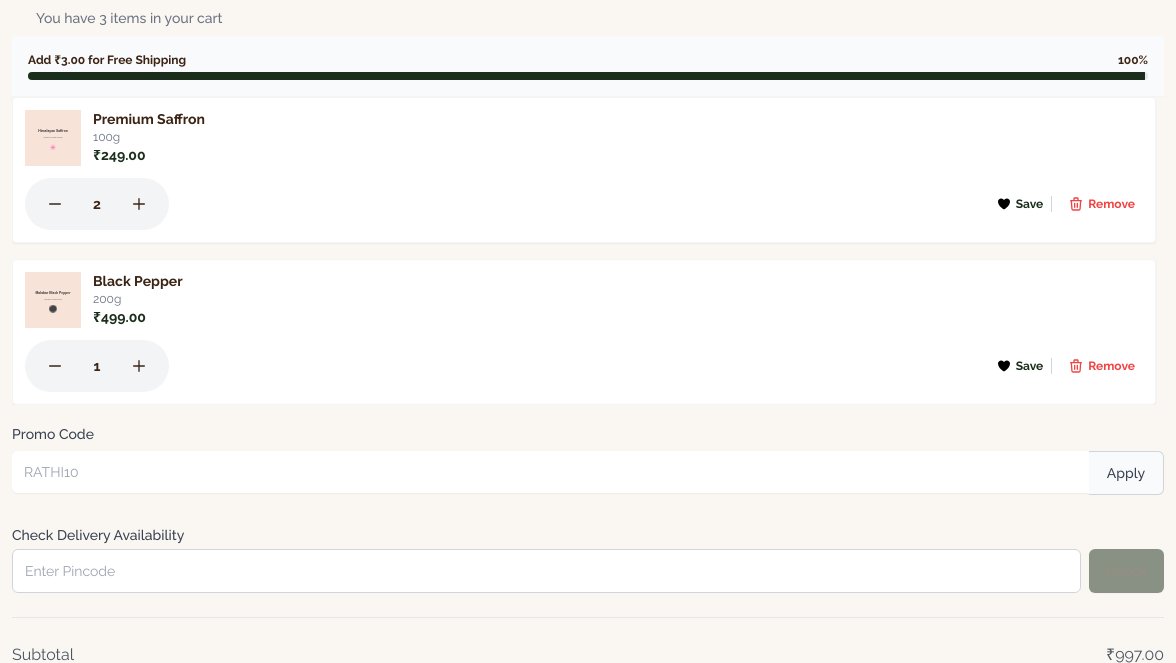
Test case: Cart › Quantity Management › should show loading spinner during quantity update
Click the button named "Decrease quantity" below "249.00": (55, 204) [33,182,77,226]
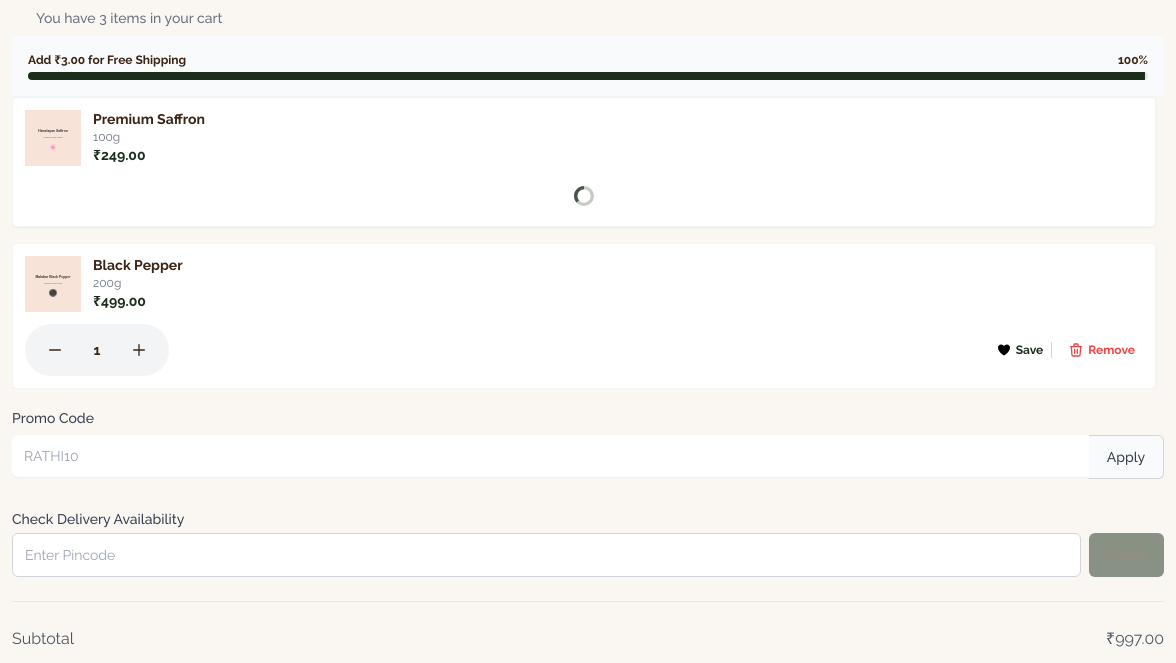
Now the icon with class "animate-spin" is shown, box [574,186,594,206]
